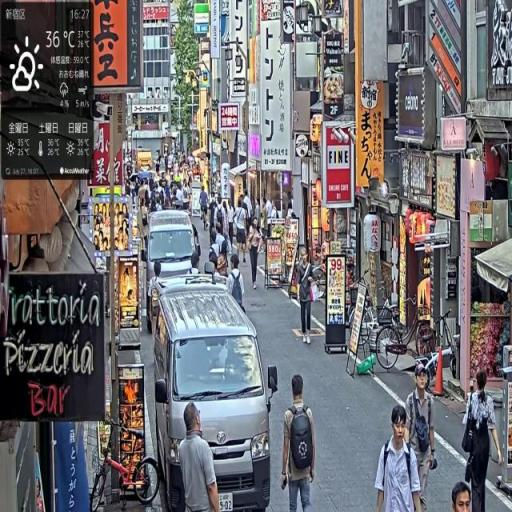person: (460, 366, 502, 512), (374, 402, 425, 512), (280, 372, 318, 512), (176, 402, 222, 512), (404, 364, 438, 512), (296, 245, 318, 344), (247, 211, 266, 292), (150, 262, 165, 360), (228, 254, 247, 315), (451, 478, 477, 512), (236, 199, 248, 268), (217, 240, 235, 281), (209, 231, 221, 279), (188, 251, 202, 290), (215, 222, 228, 261), (200, 185, 210, 228)
